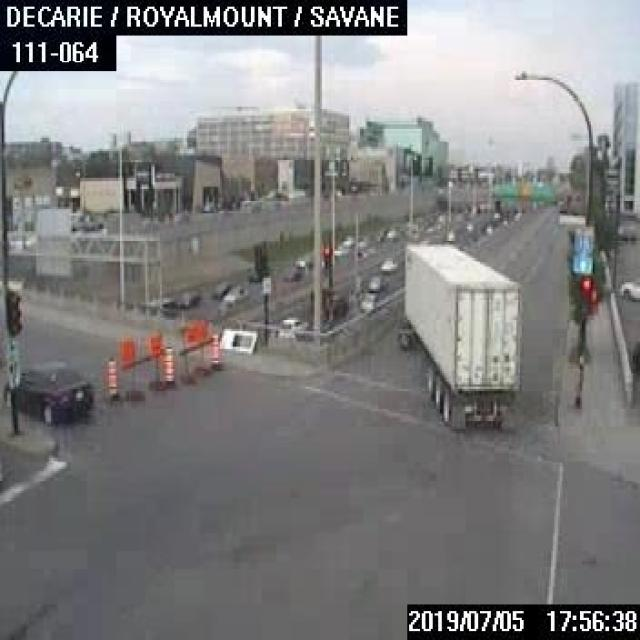construction: (181, 319, 211, 381), (120, 338, 143, 397), (147, 332, 160, 389), (106, 356, 116, 397), (162, 344, 172, 385), (209, 331, 219, 367)
vehicle: (394, 242, 524, 433), (2, 360, 93, 427), (73, 211, 104, 231), (277, 316, 307, 334), (220, 284, 247, 304), (175, 289, 200, 308), (620, 275, 638, 301), (366, 273, 384, 290), (282, 265, 303, 279), (209, 282, 229, 296), (380, 257, 396, 273)
